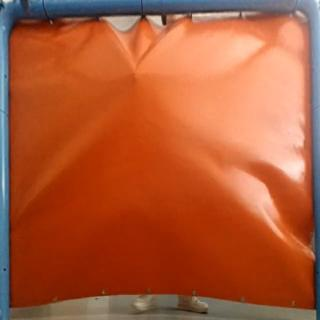Hit-hRxx: (128, 68, 149, 87)
